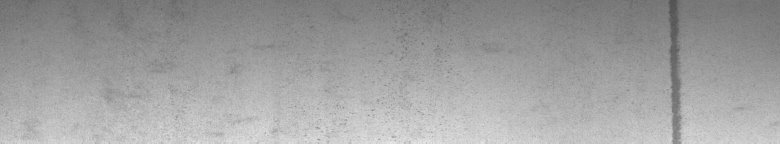hd: (664, 4, 687, 136)
